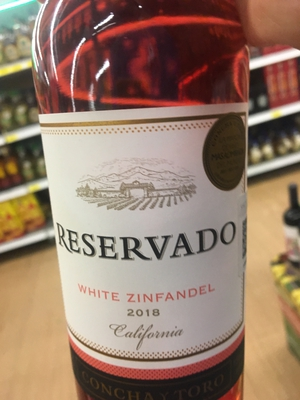reservado white zinfandel: (30, 12, 261, 397)
